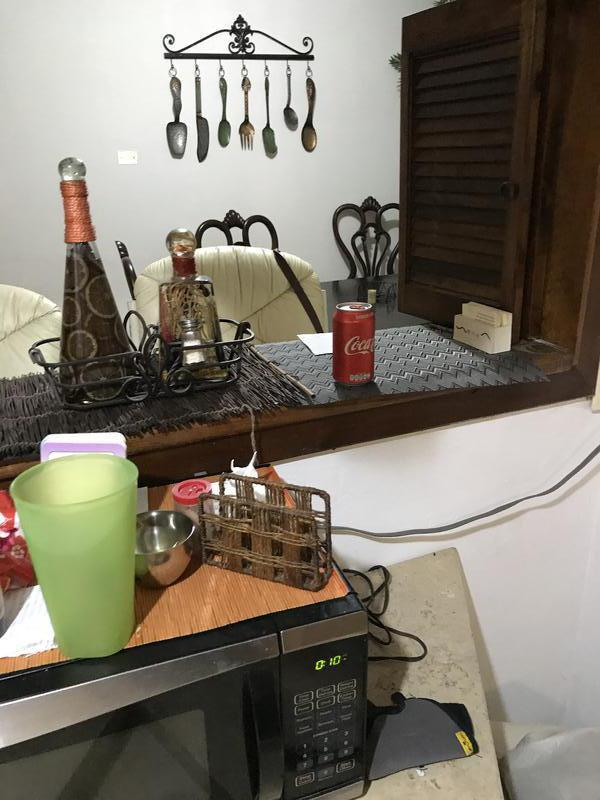coca_cola: (332, 302, 375, 387)
